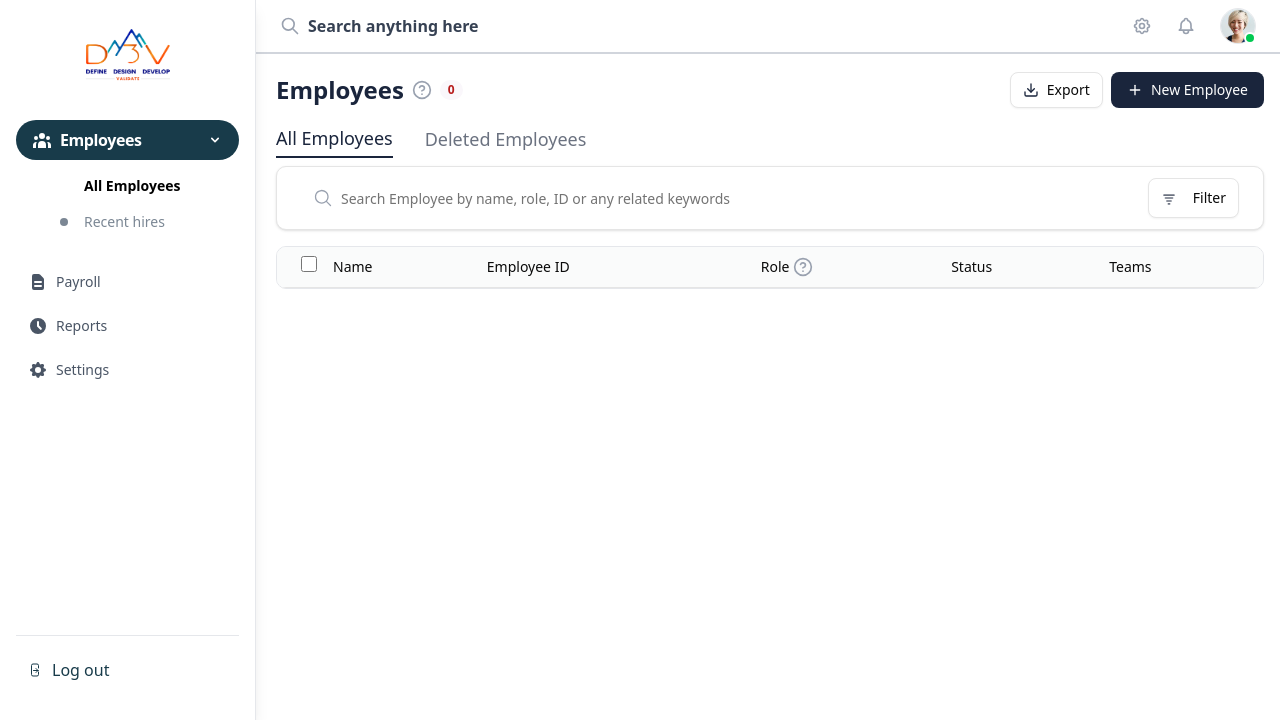
Test: Employee Management E2E Tests › Employee CRUD Operations › should create a new employee successfully
The image size is (1280, 720).
Click the button "New Employee" at (1188, 90), box [1111,72,1264,108]
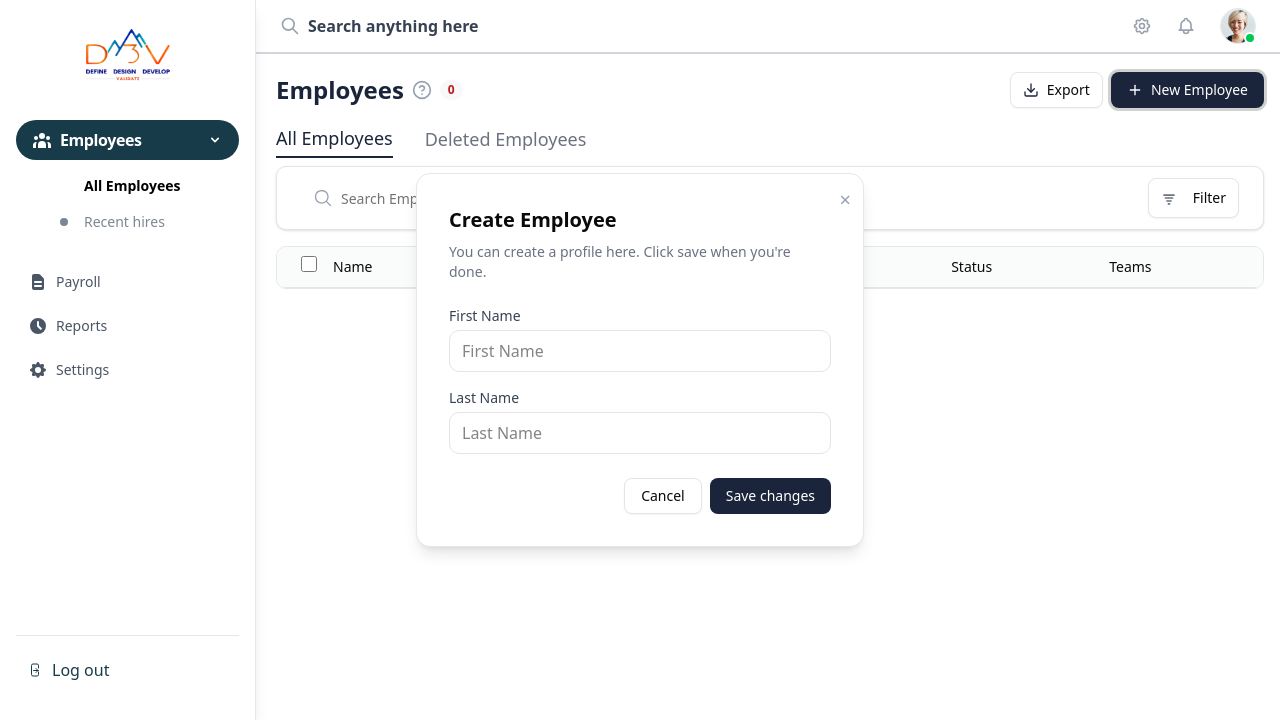
Check: the heading "Create Employee" is shown, box [449,206,617,233]
Fill form with valid data
Type "New" into the field with placeholder "First Name" at (640, 351), box [449,330,831,372]
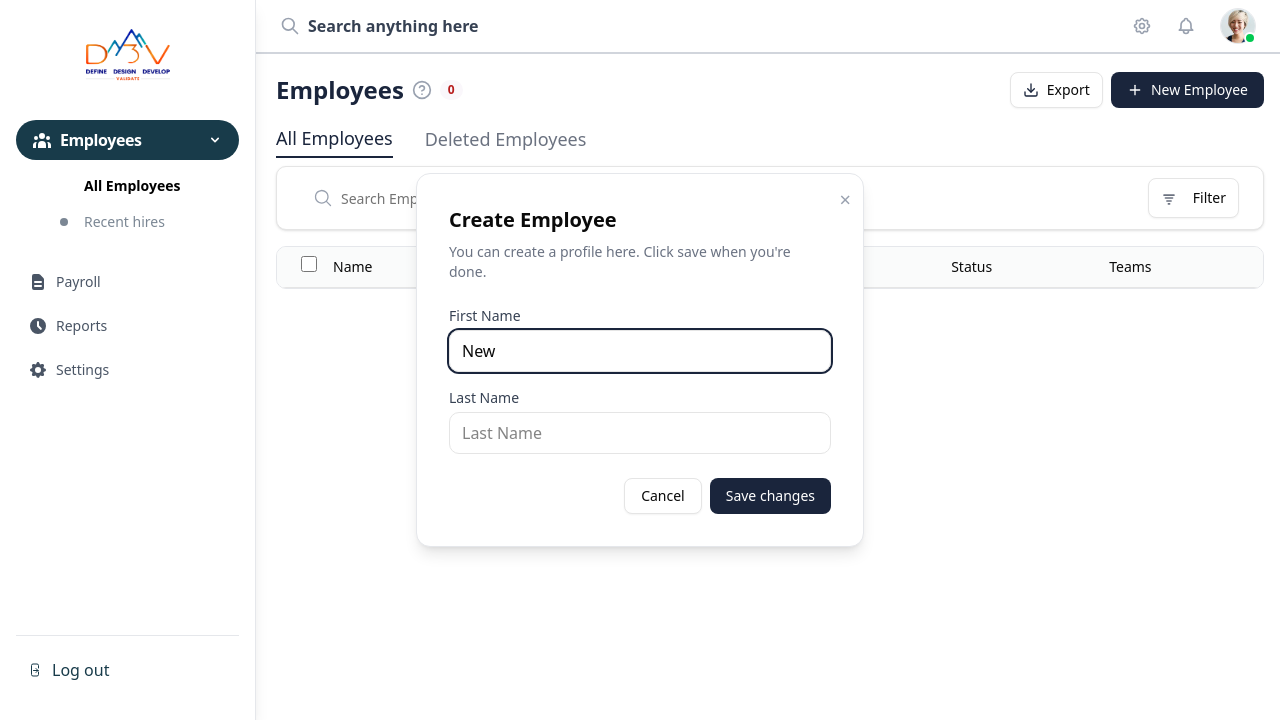
Type "Employee" into the field with placeholder "Last Name" at (640, 433), box [449,412,831,454]
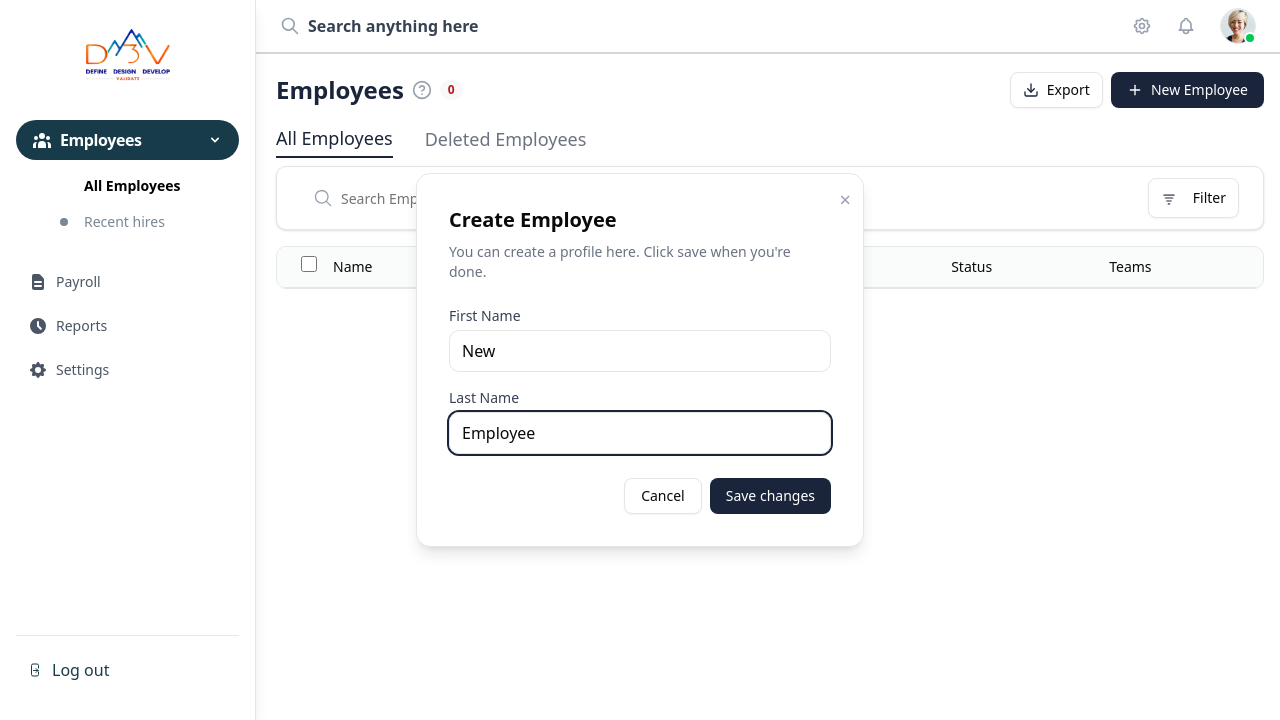
Submit form
Click the button "Save changes" at (771, 496), box [710,478,831,514]
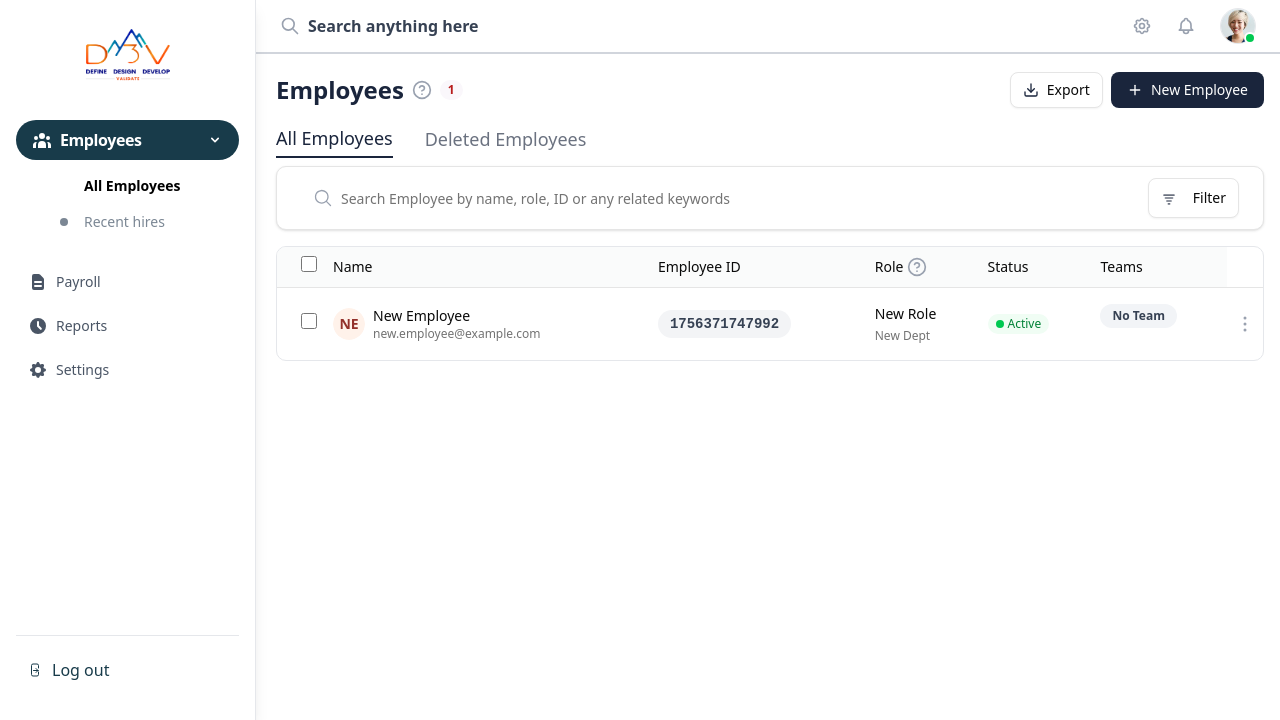
Check: the heading "Create Employee" is gone
